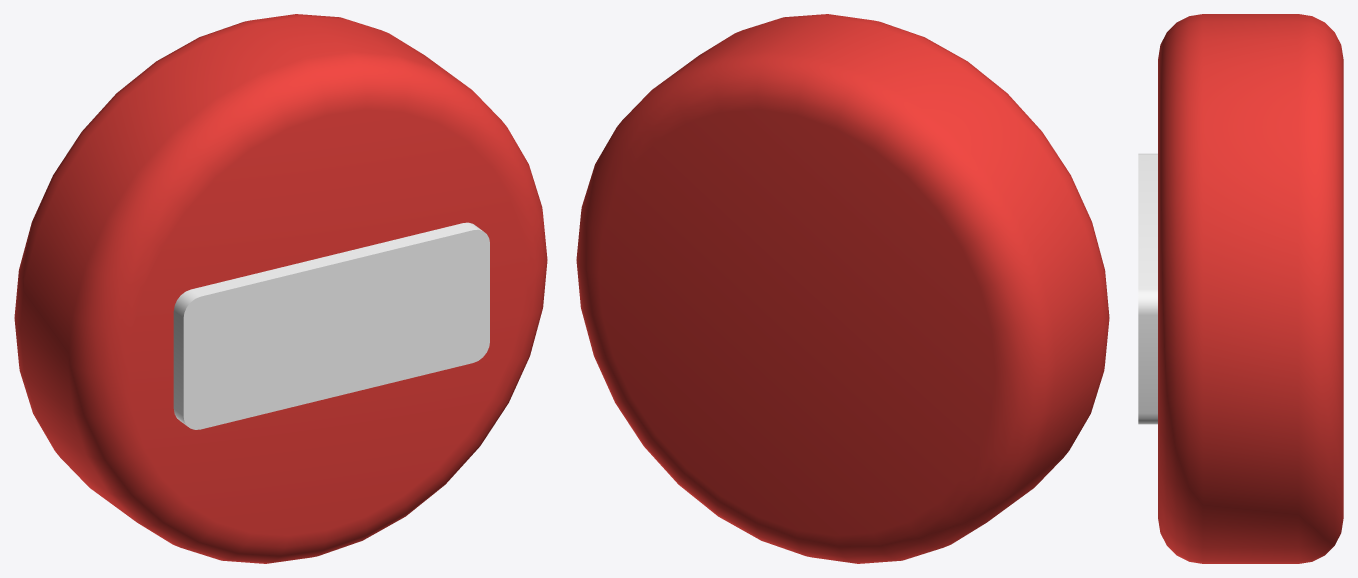
File: no_entry.glb
3 renders of one model, left to right at view 1: azimuth 30°, elevation 25°; view 2: azimuth 150°, elevation 25°; view 3: azimuth 270°, elevation 25°, orthographic.
Visible parts, largest first — view 1: Circle.2616; view 2: Circle.2616; view 3: Circle.2616.
Boxes of the visible parts, <box> form: Circle.2616: <box>14,14,547,563</box>; Circle.2616: <box>576,14,1109,563</box>; Circle.2616: <box>1138,14,1343,563</box>.
Size of the model in its own units: 1.96 by 1.96 by 0.73.
1 material, 1 textured.
